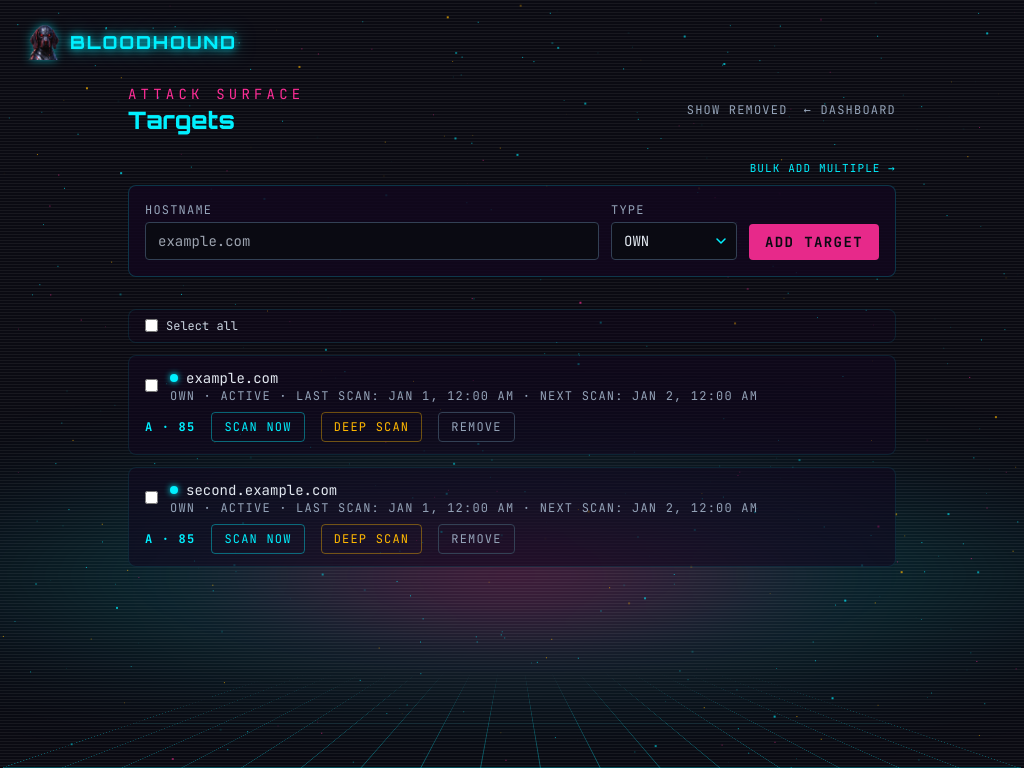
TargetsPage - bulk scan selection › hides selection checkboxes in the 'Show removed' view
Expected: the link "example.com" is shown, [170,368,278,386]
What coordinates should you click on to do the following:
click the button "Show removed"
I would click on:
 (737, 110)
Its box is [687,102,788,118].
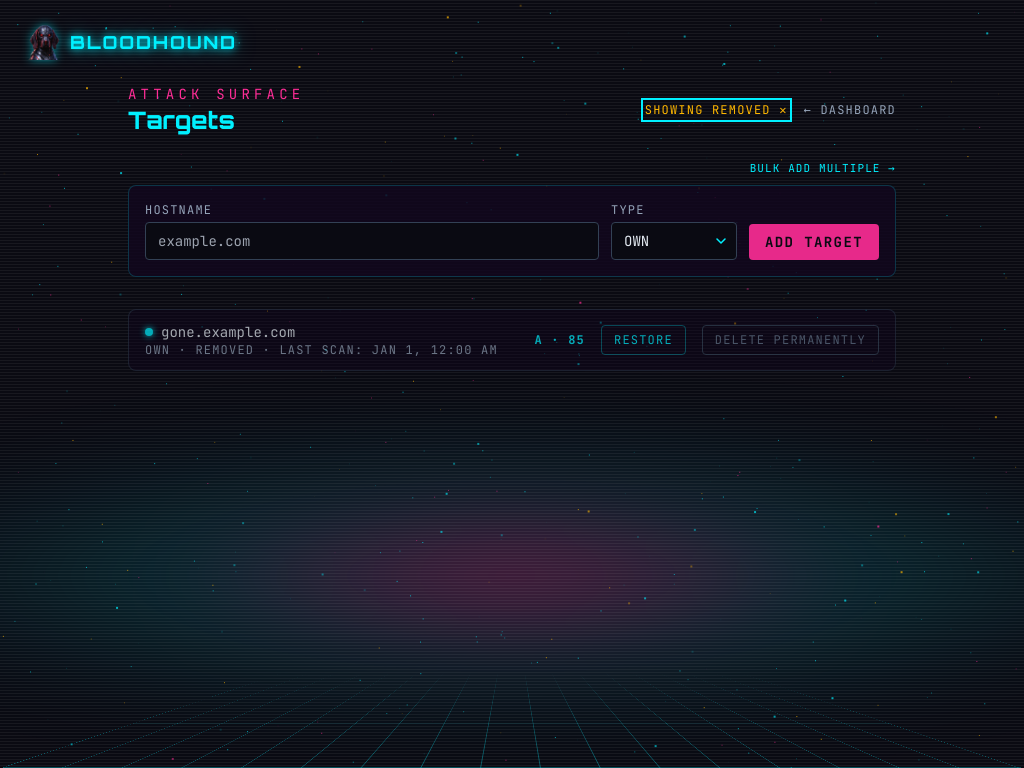
Expected: the link "gone.example.com" is shown, [145,322,295,340]
